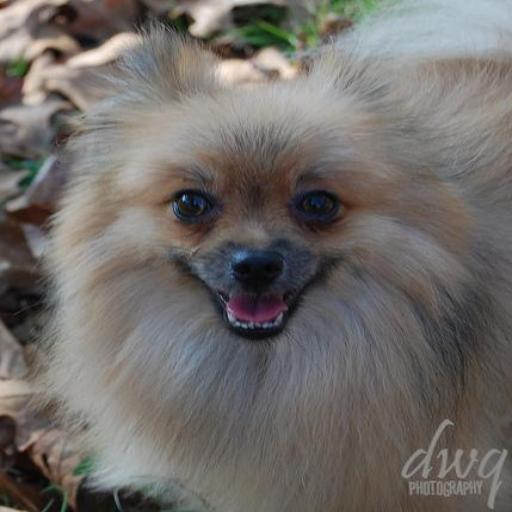dog_face: (63, 44, 491, 348)
